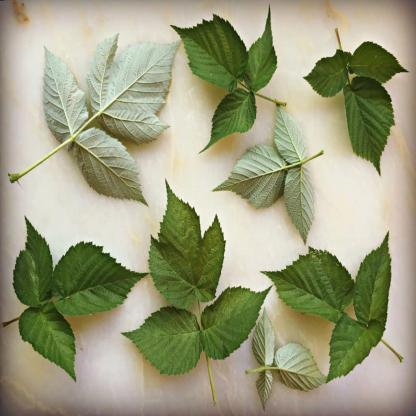Raspberry leaf: (81, 23, 184, 143), (142, 180, 230, 314), (50, 238, 148, 316), (262, 246, 358, 319), (120, 304, 204, 378), (74, 124, 146, 208), (171, 15, 249, 92), (201, 283, 274, 365), (340, 76, 393, 180), (215, 142, 287, 216), (41, 44, 89, 149), (320, 316, 386, 390), (19, 304, 79, 381), (352, 229, 394, 332), (200, 84, 262, 152), (13, 217, 54, 305), (344, 34, 410, 84), (246, 1, 282, 88), (303, 46, 358, 98), (275, 341, 330, 390), (271, 101, 313, 164), (282, 166, 316, 240), (252, 306, 277, 366), (256, 364, 276, 410)
